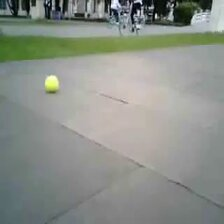tennis: (43, 75, 60, 93)
